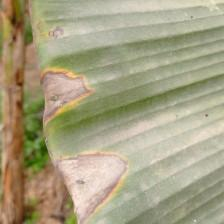cordana: (29, 0, 224, 224)
